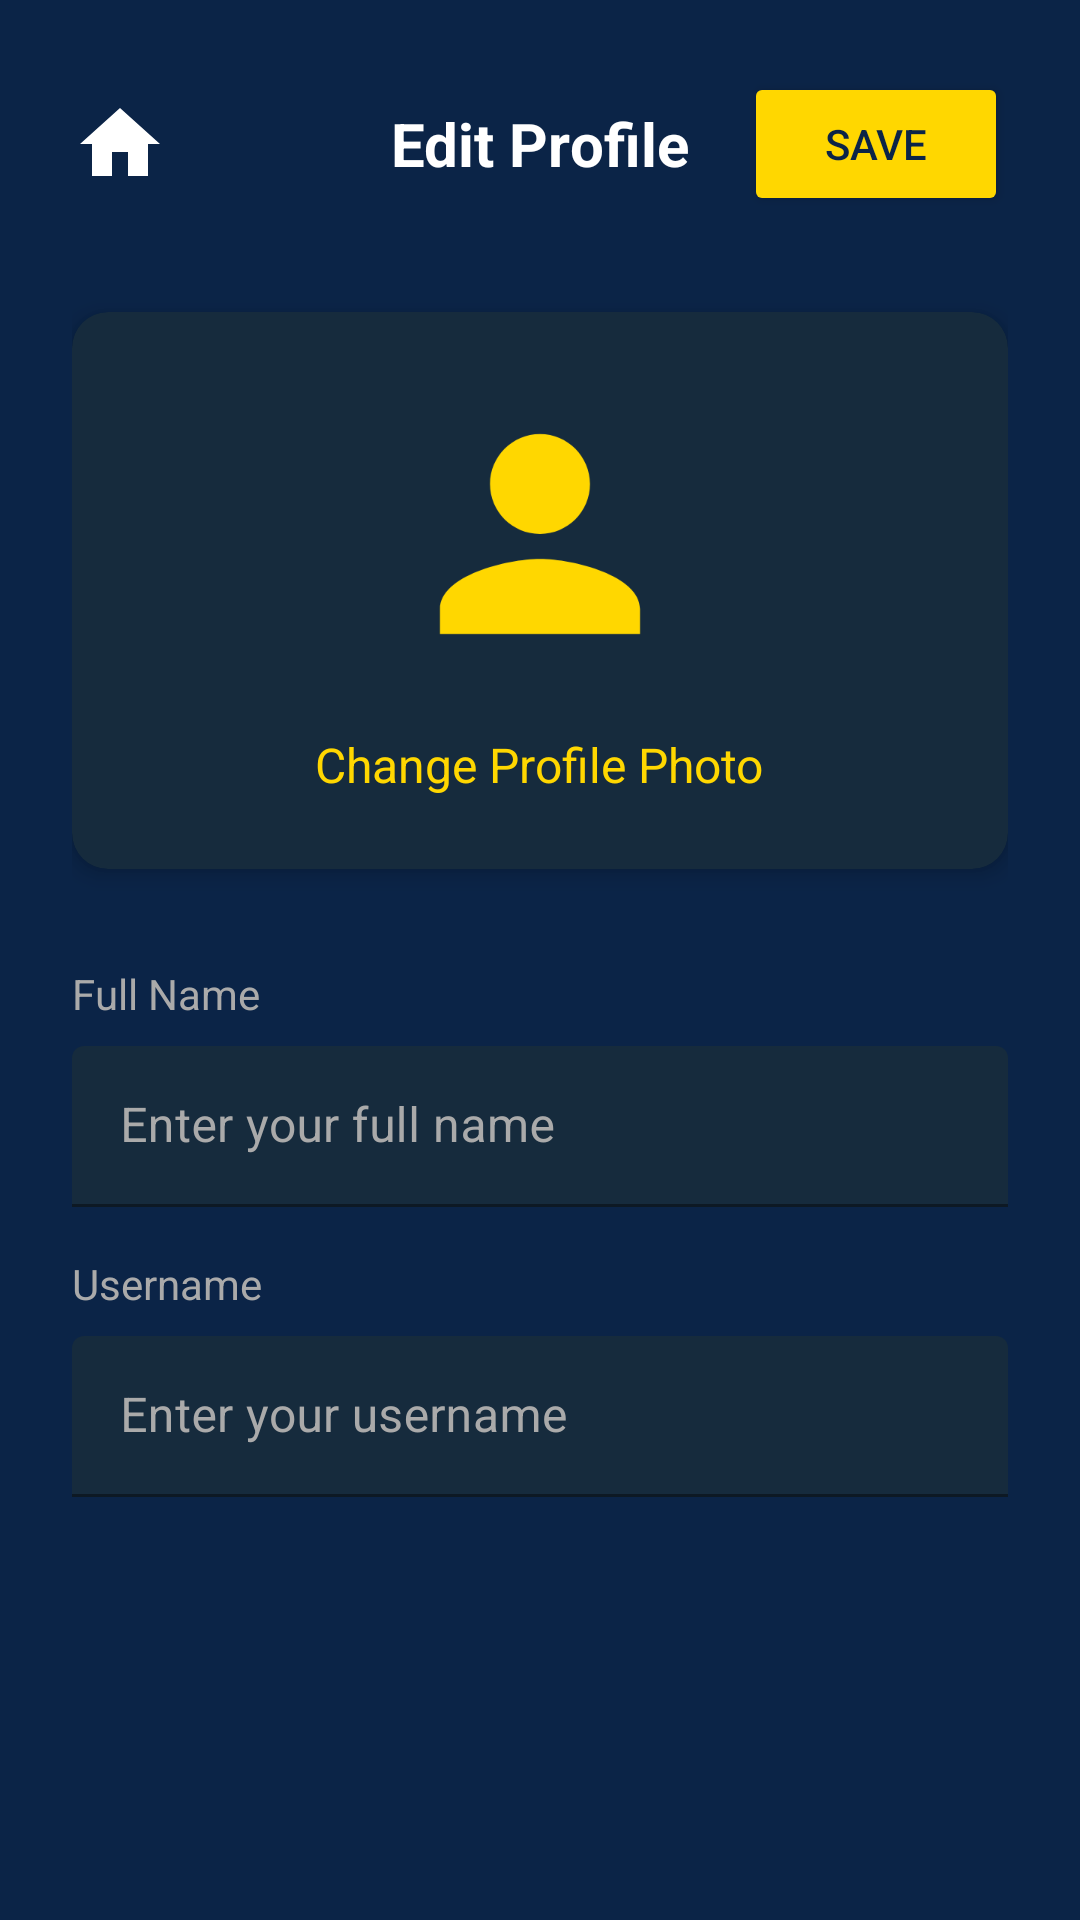

Named icons in this screenshot (1080w x 1920h) and their bounding boxes, bbox=[x1, y1, x2, y2]:
home: bbox=[80, 108, 160, 176]
